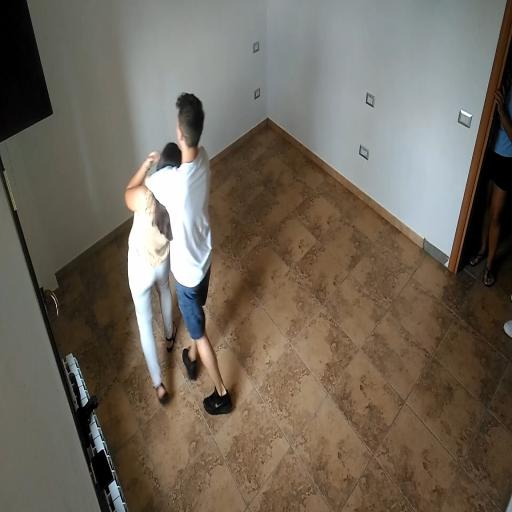violencia: (108, 82, 256, 422)
